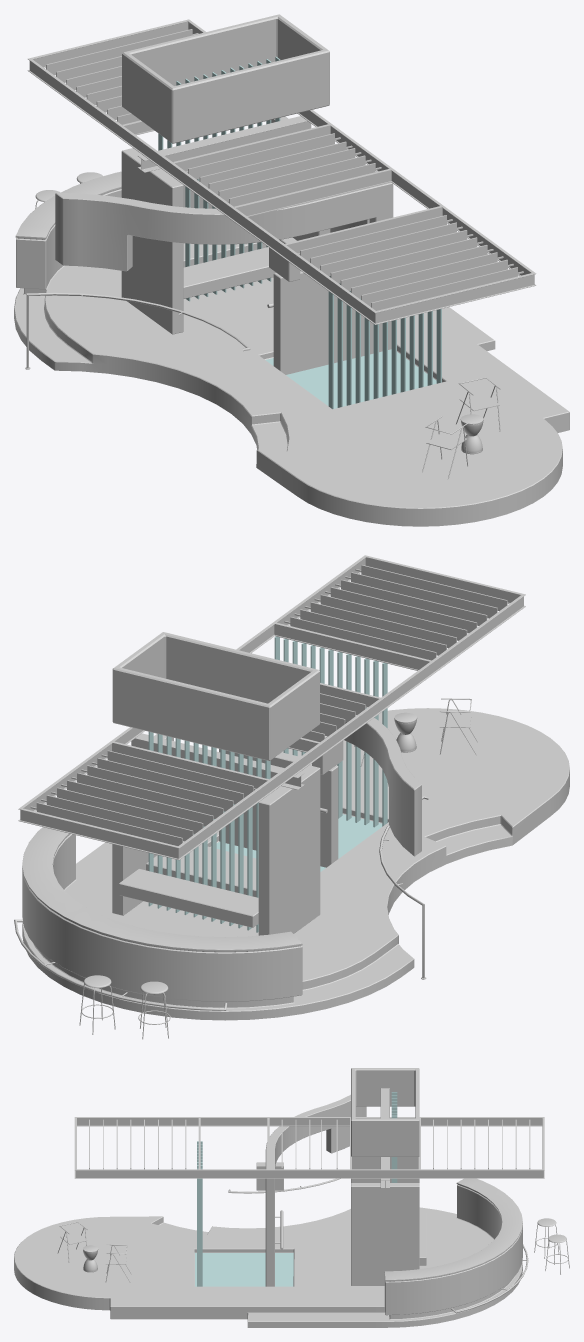
File: booth-2mat.glb
The picture shows the model from 3 angles, top to bottom: view 1: azimuth 30°, elevation 25°; view 2: azimuth 150°, elevation 25°; view 3: azimuth 270°, elevation 25°; orthographic projection. The views are drawn at different scales.
Visible parts, largest first — view 1: Line011; view 2: Line011; view 3: Line011.
Part boxes in pixels (box(x1,y1,x2,y2)): Line011: box(14, 14, 569, 526); Line011: box(14, 555, 569, 1039); Line011: box(14, 1068, 569, 1327).
Size of the model in its own units: 6.35 by 4.3 by 12.12.
